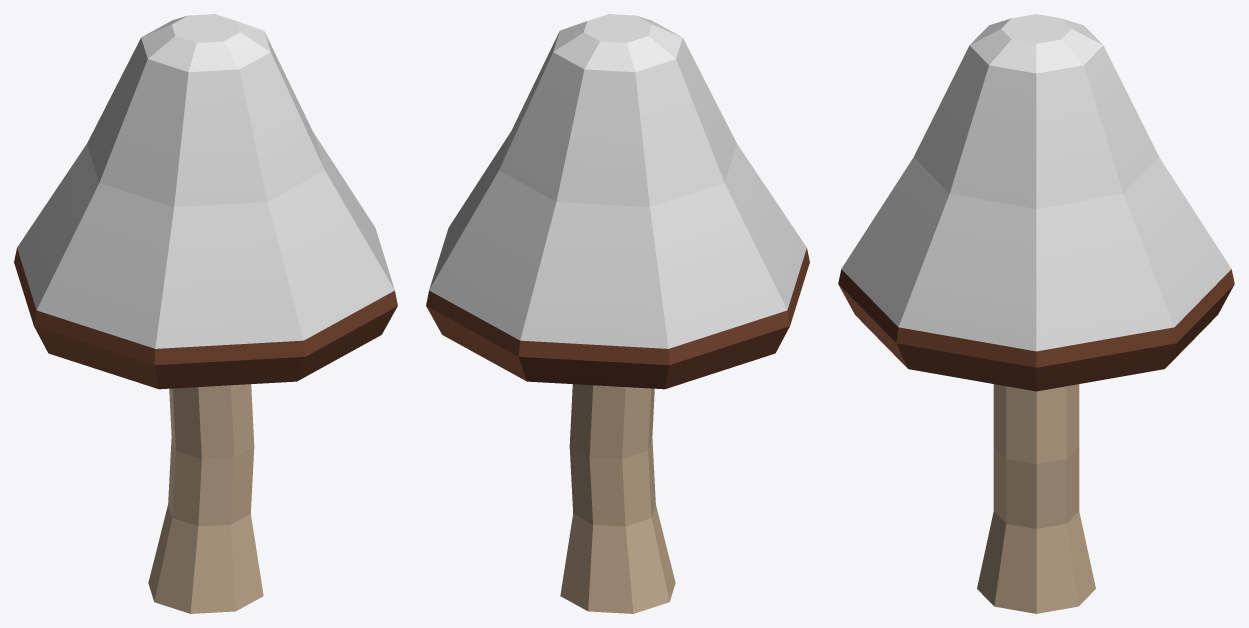
File: Winter_Mushroom_01.glb
The picture shows the model from 3 angles, left to right: view 1: azimuth 30°, elevation 25°; view 2: azimuth 150°, elevation 25°; view 3: azimuth 270°, elevation 25°; orthographic projection.
Parts seen in each view (by area): view 1: Winter_Mushroom_01_LOD0; view 2: Winter_Mushroom_01_LOD0; view 3: Winter_Mushroom_01_LOD0.
Boxes of the visible parts, x1,y1,x2,y2 form: Winter_Mushroom_01_LOD0: (14, 14, 397, 613); Winter_Mushroom_01_LOD0: (426, 14, 809, 613); Winter_Mushroom_01_LOD0: (838, 14, 1234, 613).
Size of what is drawn, in the model's own units: 0.1725 by 0.2686 by 0.1725.
1 material, 1 textured.
